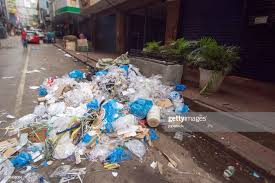garbage: (46, 79, 146, 157), (1, 143, 41, 183), (148, 78, 171, 110), (93, 67, 141, 79)
